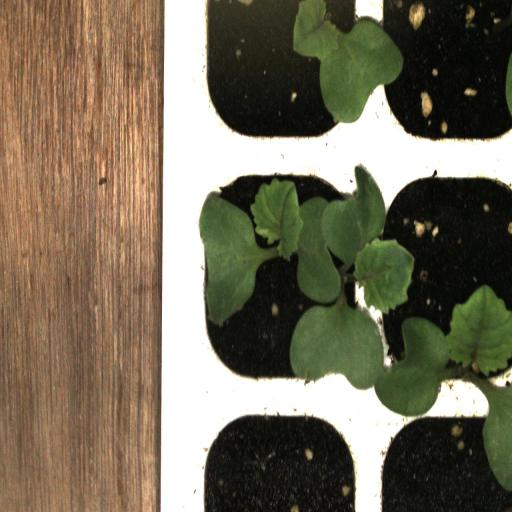seedling: (371, 153, 512, 403)
twoseedling: (185, 154, 372, 396)
